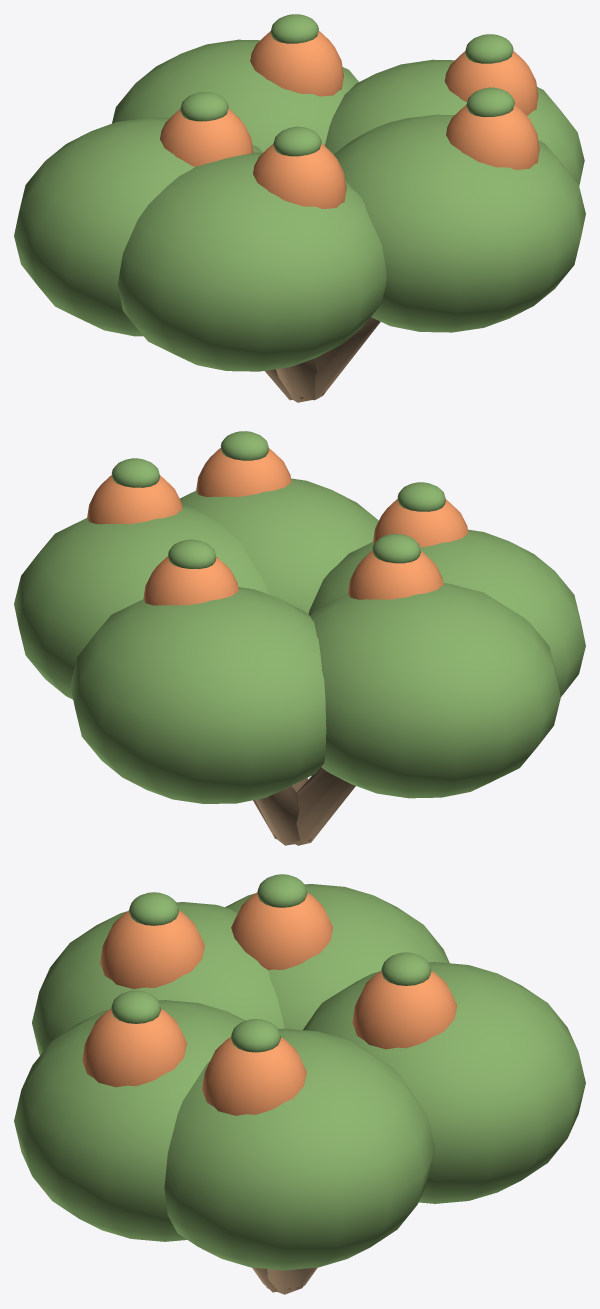
The model's file is berry.glb.
3 views of the same model, one above another, from view 1: azimuth 30°, elevation 25°; view 2: azimuth 150°, elevation 25°; view 3: azimuth 270°, elevation 25° (orthographic). The views are drawn at different scales.
Visible parts, largest first — view 1: Leaves.001, Leaves.003, Leaves.004, Leaves.002, Leaves, Berry.001, Berry.002, Berry.003, Berry.004, Berry, Branch.003, Branch.001 (+5 smaller); view 2: Leaves.002, Leaves.004, Leaves, Leaves.003, Leaves.001, Berry.002, Berry.004, Berry, Berry.003, Berry.001, Branch.004, Branch.002 (+5 smaller); view 3: Leaves, Leaves.002, Leaves.003, Leaves.001, Leaves.004, Berry, Berry.001, Berry.002, Berry.003, Berry.004, Calyx.001, Calyx.003 (+4 smaller).
Boxes of the visible parts, <box> form: Leaves.001: <box>117,152,386,371</box>; Leaves.003: <box>334,114,585,332</box>; Leaves.004: <box>14,117,262,336</box>; Leaves.002: <box>112,39,358,152</box>; Leaves: <box>324,59,584,185</box>; Berry.001: <box>253,143,346,208</box>; Berry.002: <box>250,31,343,96</box>; Berry.003: <box>446,104,539,169</box>; Berry.004: <box>160,108,253,166</box>; Berry: <box>444,51,538,115</box>; Branch.003: <box>313,317,380,400</box>; Branch.001: <box>276,358,316,402</box>; Leaves.002: <box>70,587,326,803</box>; Leaves.004: <box>310,583,560,798</box>; Leaves: <box>14,505,269,699</box>; Leaves.003: <box>180,478,378,614</box>; Leaves.001: <box>308,529,585,696</box>; Berry.002: <box>143,556,238,605</box>; Berry.004: <box>348,550,443,599</box>; Berry: <box>87,475,182,524</box>; Berry.003: <box>196,448,291,496</box>; Berry.001: <box>373,499,468,547</box>; Branch.004: <box>292,769,355,845</box>; Branch.002: <box>255,786,301,845</box>; Leaves: <box>164,1028,435,1270</box>; Leaves.002: <box>303,962,585,1203</box>; Leaves.003: <box>14,1000,245,1241</box>; Leaves.001: <box>32,902,284,1055</box>; Leaves.004: <box>225,884,449,1029</box>; Berry: <box>202,1037,306,1115</box>; Berry.001: <box>100,910,204,989</box>; Berry.002: <box>352,970,457,1049</box>; Berry.003: <box>82,1008,187,1087</box>; Berry.004: <box>231,892,333,970</box>; Calyx.001: <box>129,892,178,925</box>; Calyx.003: <box>111,990,161,1023</box>.
Bounding box in the file's own units: 1.83 × 1.09 × 1.59.
